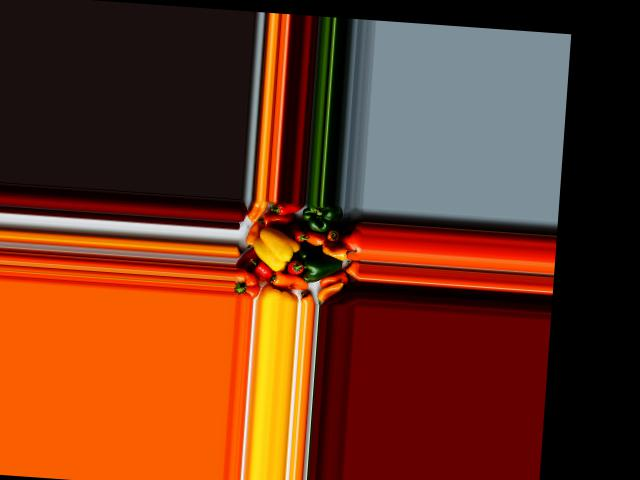bell_pepper: (268, 200, 301, 220)
